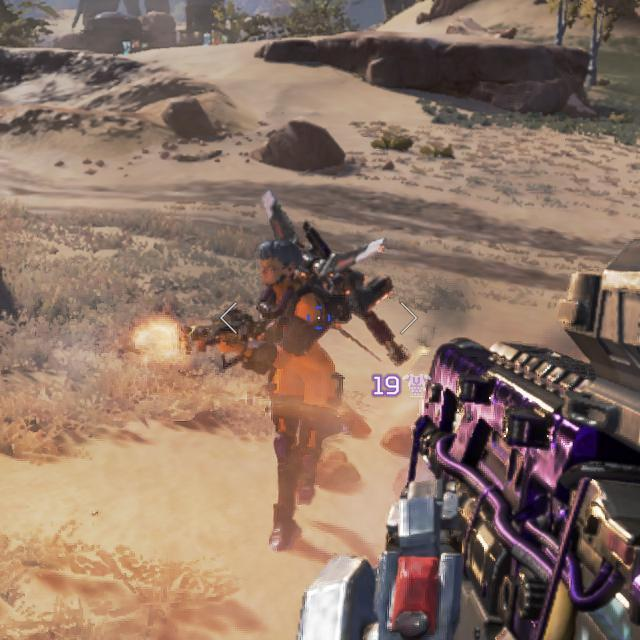avatar: (254, 239, 341, 551)
